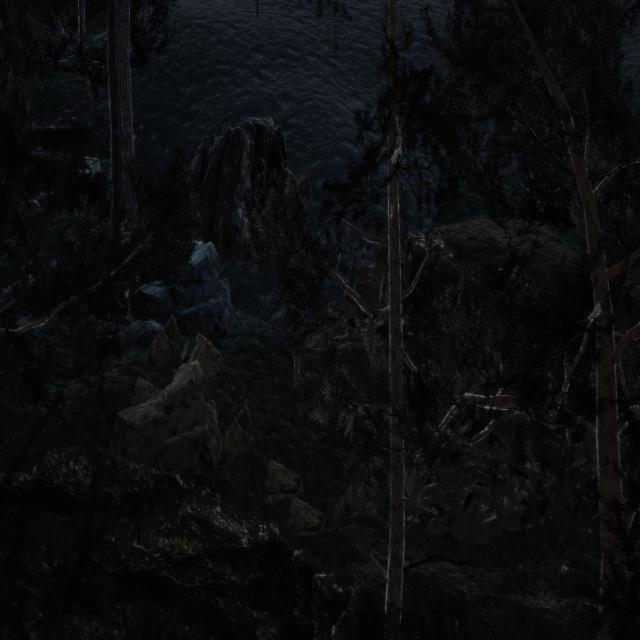Human: (283, 290, 310, 410)
